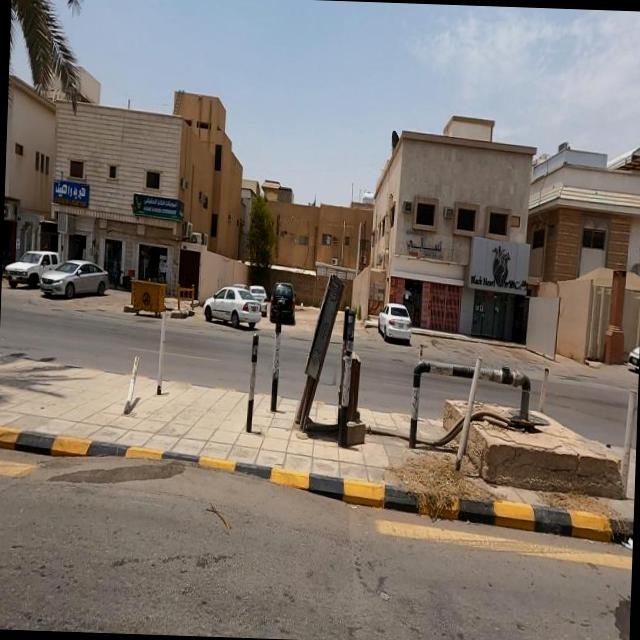debris: (419, 269, 505, 532), (318, 250, 372, 484), (228, 282, 278, 441), (258, 259, 300, 446), (103, 316, 158, 444)
